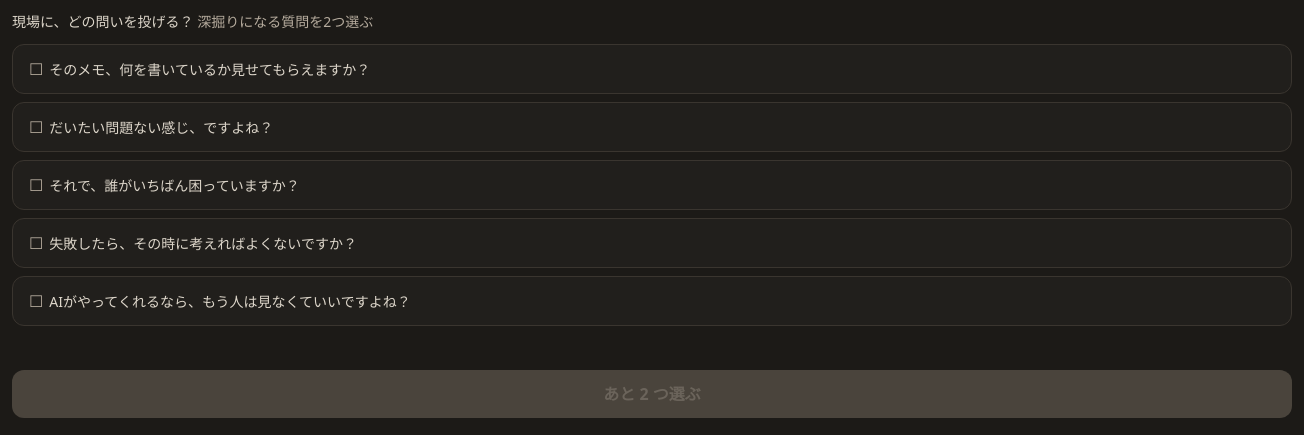
it: MiniGameHearing › 上限到達演出 › 上限到達後の3つ目タップで aria-live に「すでに2つ選択中」が表示される
The image size is (1304, 435).
Click the button "☐そのメモ、何を書いているか見せてもらえますか？" at (210,70), box [12,44,1292,94]
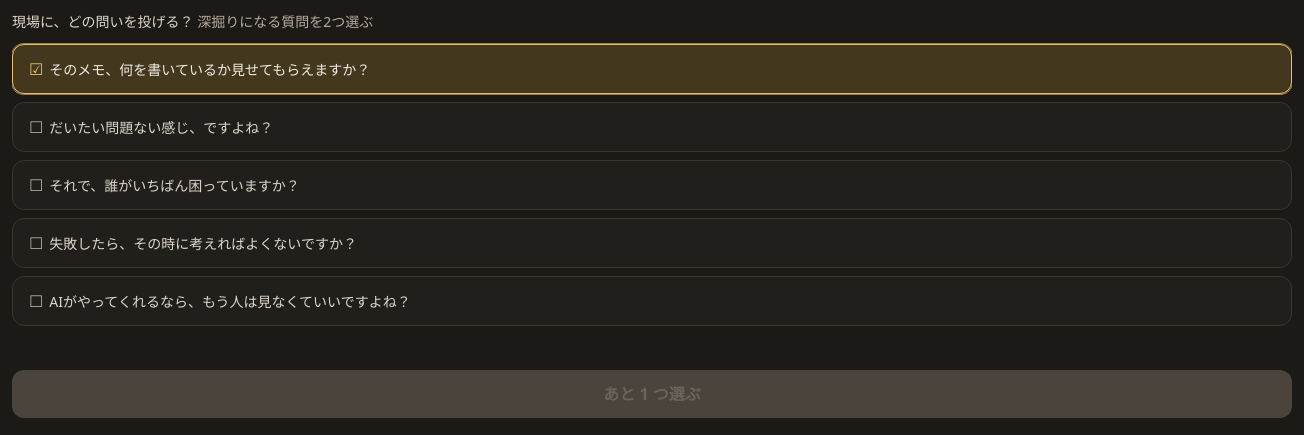
Click the button "☐だいたい問題ない感じ、ですよね？" at (161,128), box [12,102,1292,152]
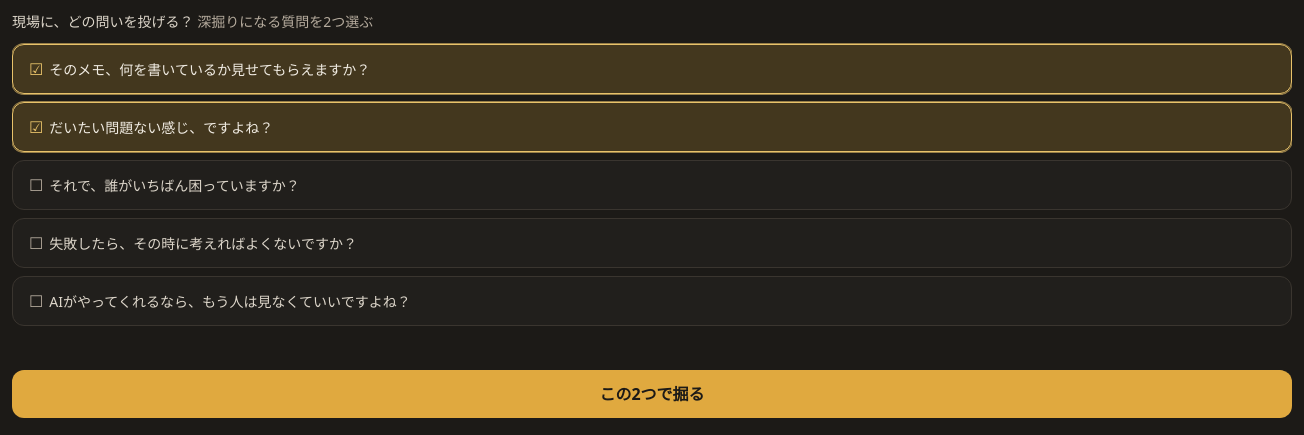
#  上限超過タップ
Click the button "☐それで、誰がいちばん困っていますか？" at (175,186), box [12,160,1292,210]
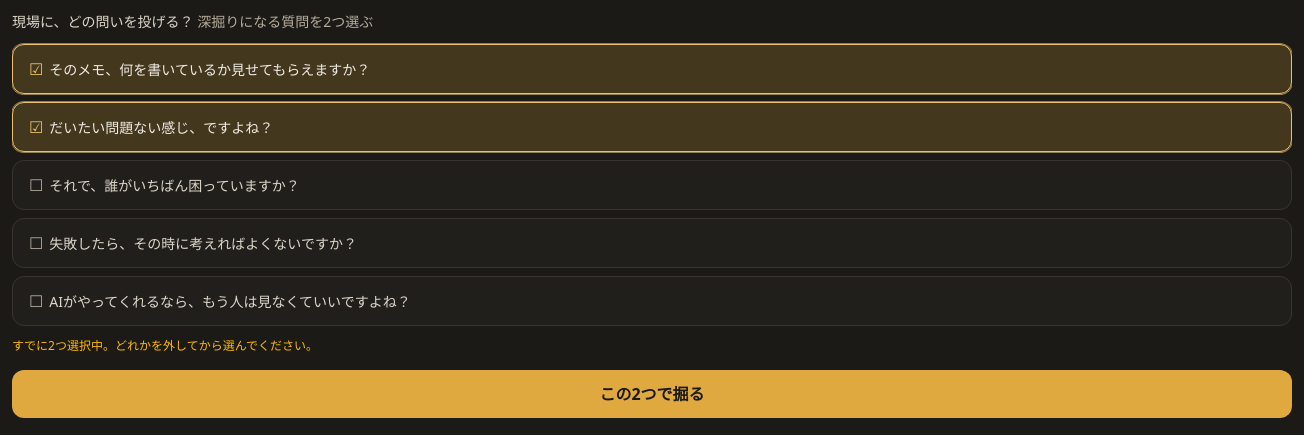
Check: the message shows "すでに2つ選択中", box [12,337,318,354]
